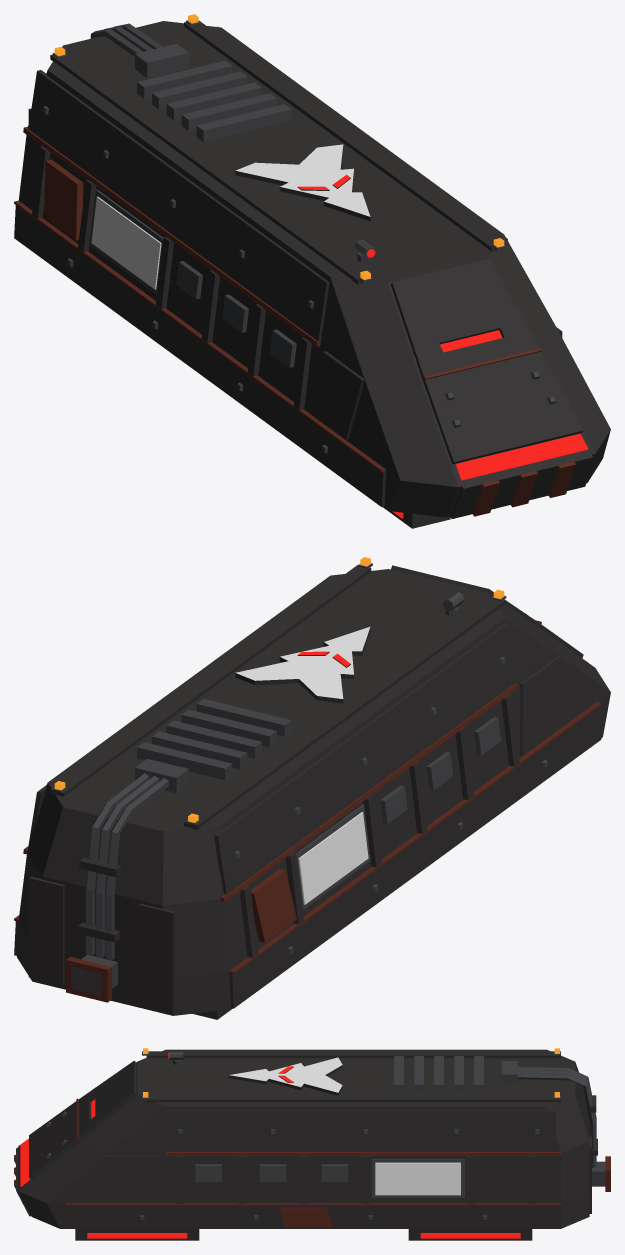
The model's file is maglev_train_engine.glb.
3 renders of one model, top to bottom at view 1: azimuth 30°, elevation 25°; view 2: azimuth 150°, elevation 25°; view 3: azimuth 270°, elevation 25°, orthographic. The views are drawn at different scales.
Parts seen in each view (by area): view 1: engine_body; view 2: engine_body; view 3: engine_body, sled_engine_front, sled_engine_rear.
Part boxes in pixels (x1=…): engine_body: x1=14, y1=14, x2=610, y2=518; engine_body: x1=14, y1=557, x2=610, y2=1015; engine_body: x1=14, y1=1048, x2=610, y2=1228; sled_engine_front: x1=75, y1=1229, x2=199, y2=1240; sled_engine_rear: x1=408, y1=1229, x2=532, y2=1240.
Size of the model in its own units: 3.65 by 3.49 by 12.54.
